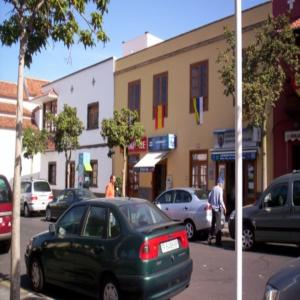Vehicle-registration-plate: (161, 243, 181, 255)
